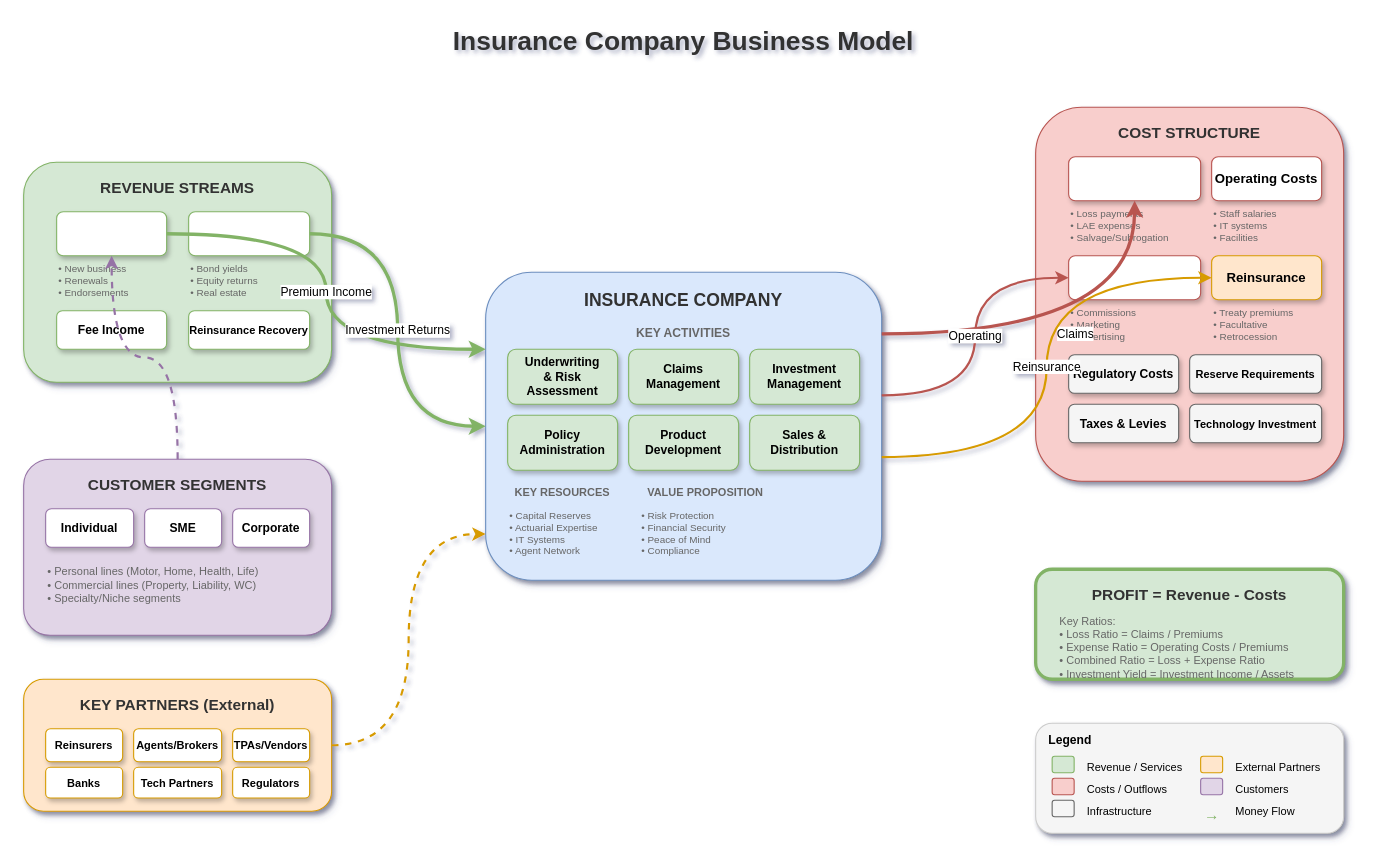
Some shapes in this 1377 by 867 pixel diagram are drawn without their labels. The centre of each missing label's shape, as x and y in pixels:
"Acquisition Costs" goes at (x=1135, y=278).
"Claims Payouts" goes at (x=1135, y=179).
"Investment Income" goes at (x=249, y=234).
"Premiums" goes at (x=112, y=234).
